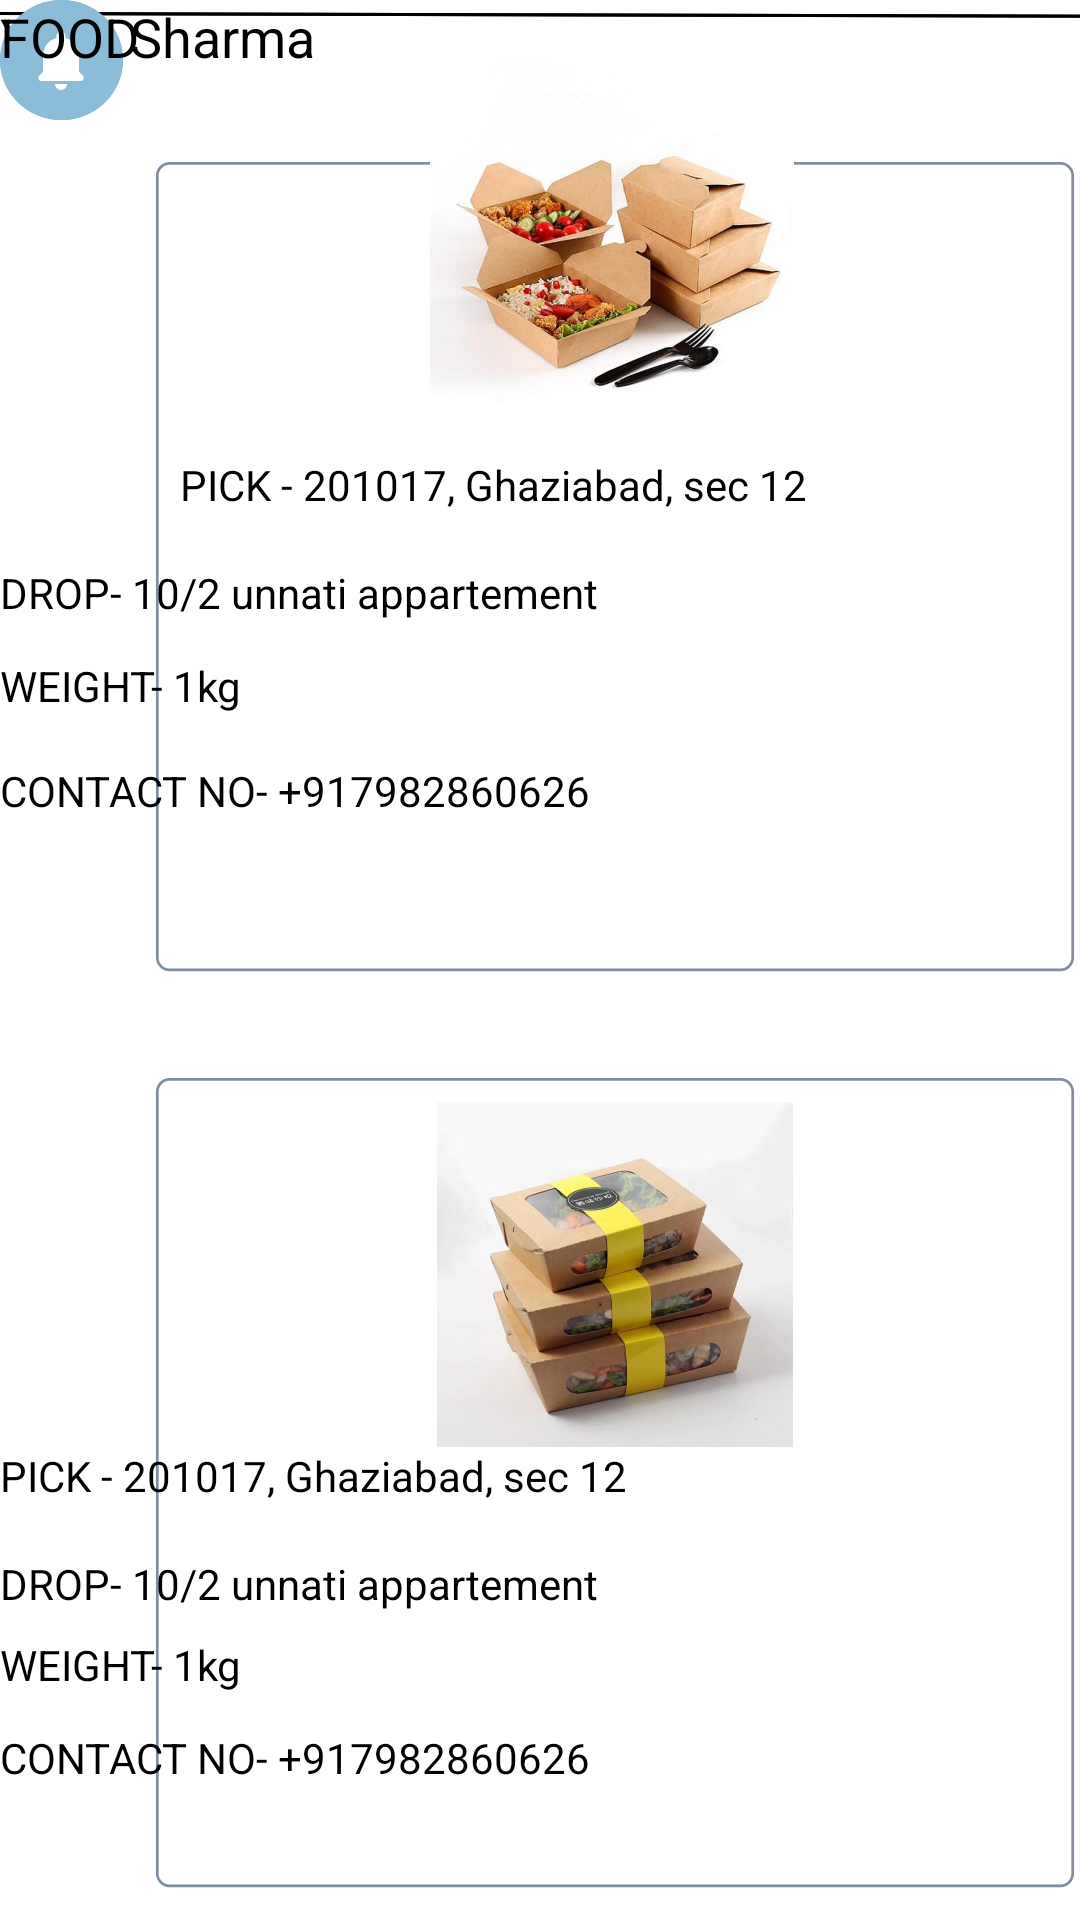

Screen size 1080px x 1920px. Icon name, then its box in pixels as (x1, y1, x2, y2):
box: (430, 156, 781, 388), (437, 1154, 793, 1447)
